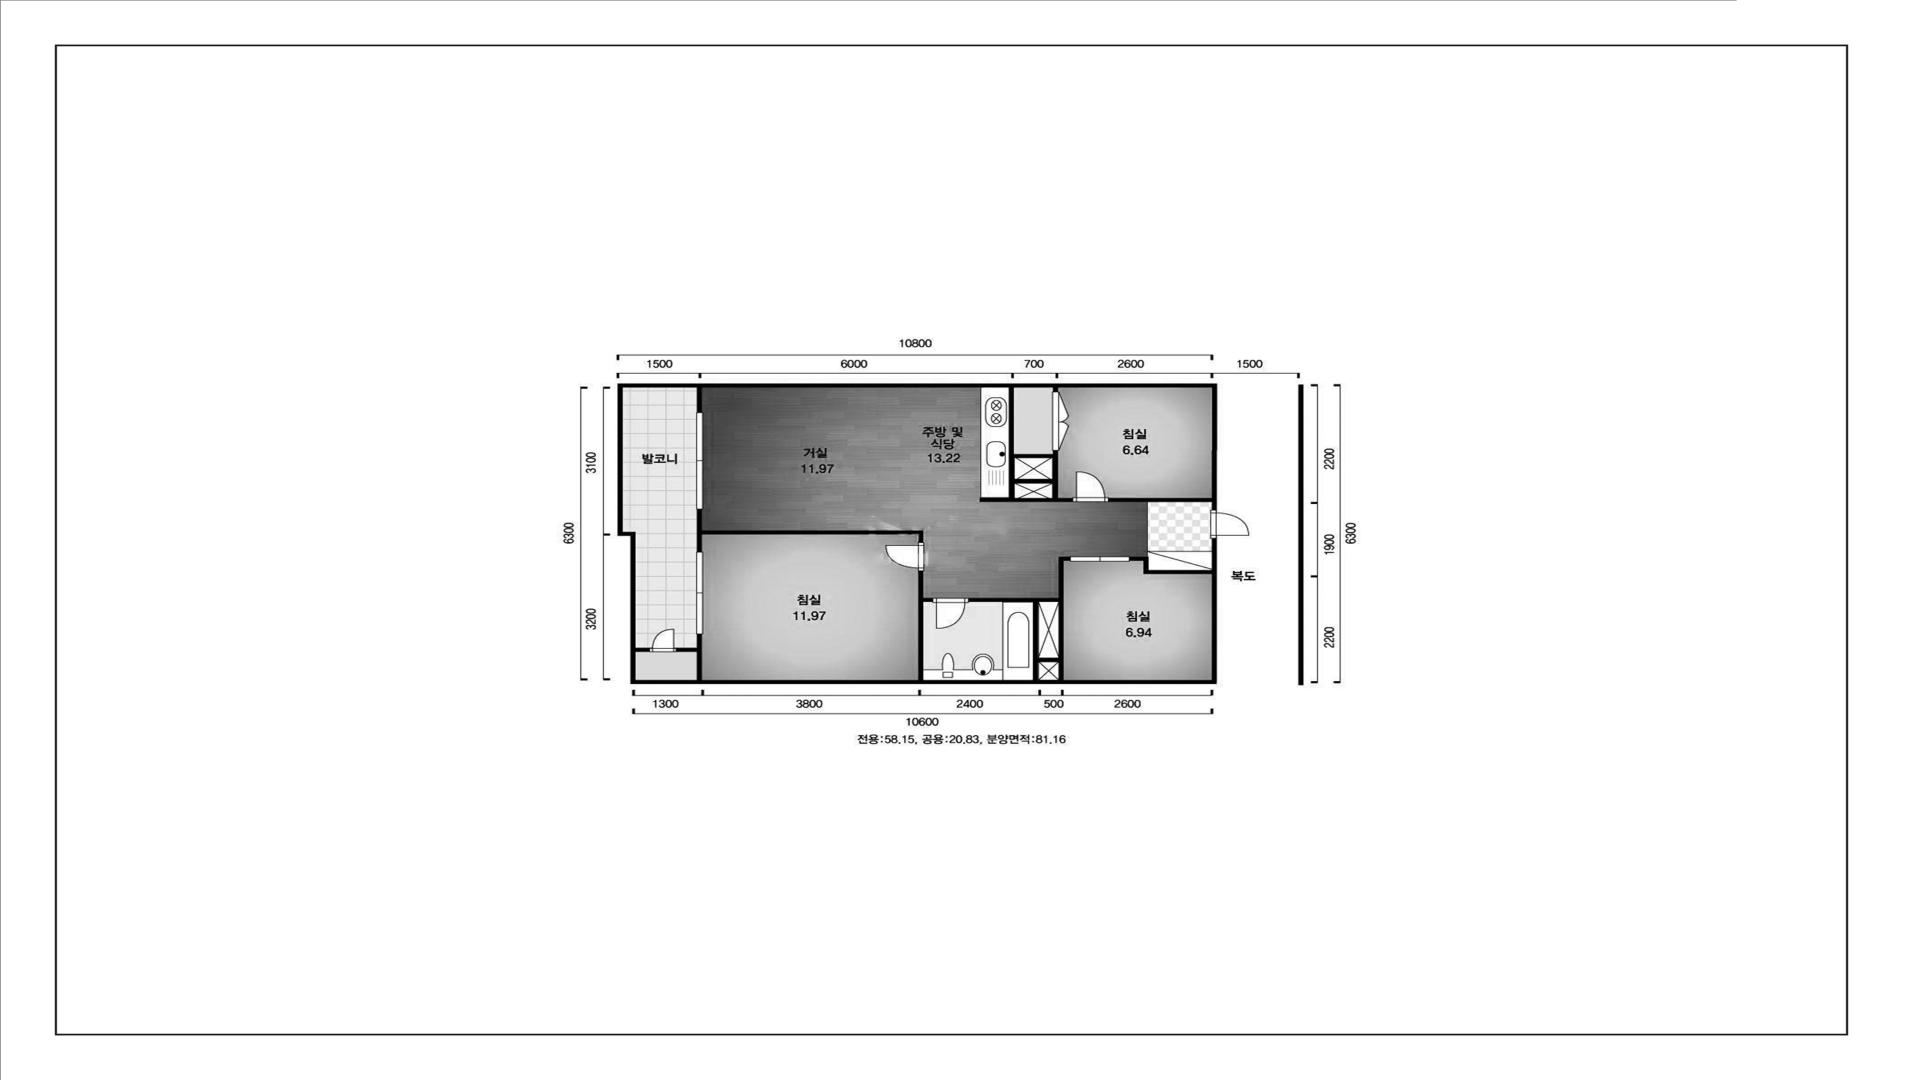door: (932, 597, 969, 630), (882, 542, 923, 571), (1211, 509, 1250, 538), (1072, 472, 1109, 502), (650, 629, 676, 651), (1069, 556, 1130, 562)
wall: (617, 384, 1217, 684), (969, 556, 1069, 680), (980, 388, 1072, 502), (696, 510, 923, 551), (918, 571, 932, 680), (1130, 556, 1212, 574), (676, 634, 702, 680), (1039, 601, 1059, 658), (1014, 458, 1052, 479), (1109, 498, 1212, 502), (696, 388, 702, 411), (636, 647, 650, 651), (1052, 388, 1058, 393)
window: (695, 551, 703, 634), (696, 411, 703, 510)
